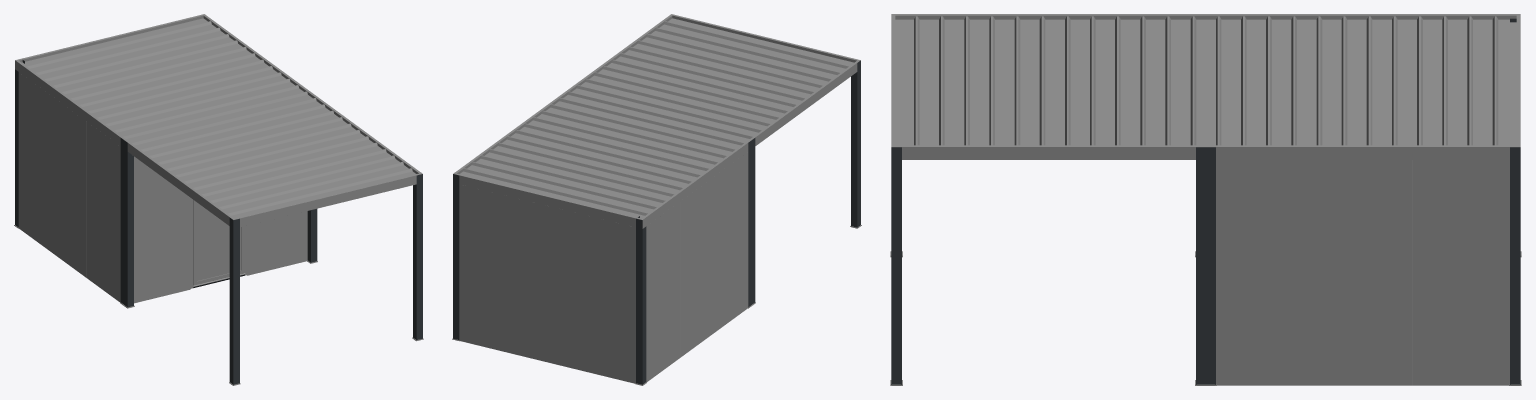
The picture shows the model from 3 angles, left to right: view 1: azimuth 30°, elevation 25°; view 2: azimuth 150°, elevation 25°; view 3: azimuth 270°, elevation 25°; orthographic projection. The views are drawn at different scales.
Parts seen in each view (by area): view 1: Line002, Rectangle021, Rectangle033, Rectangle008, Box007, Box008, Box005, Box003, Rectangle007, Box001, Box006, Rectangle006; view 2: Rectangle021, Line002, Rectangle033, Box001, Box007, Box002, Box003, Box005; view 3: Line002, Rectangle021, Rectangle033, Box002, Box008, Box004, Box006.
Part boxes in pixels (<box>): Line002: <box>22,18,415,218</box>; Rectangle021: <box>18,72,307,303</box>; Rectangle033: <box>15,14,422,227</box>; Rectangle008: <box>197,202,241,280</box>; Box007: <box>229,218,239,384</box>; Box008: <box>413,174,422,340</box>; Box005: <box>124,140,133,307</box>; Box003: <box>120,138,124,304</box>; Rectangle007: <box>193,200,244,285</box>; Box001: <box>15,60,24,227</box>; Box006: <box>307,209,317,262</box>; Rectangle006: <box>190,197,248,288</box>; Rectangle021: <box>459,152,748,383</box>; Line002: <box>460,18,853,218</box>; Rectangle033: <box>453,14,860,228</box>; Box001: <box>636,216,646,384</box>; Box007: <box>851,60,860,227</box>; Box002: <box>453,174,459,339</box>; Box003: <box>748,140,751,307</box>; Box005: <box>752,138,755,304</box>; Line002: <box>895,16,1516,145</box>; Rectangle021: <box>1216,160,1509,385</box>; Rectangle033: <box>891,14,1520,159</box>; Box002: <box>1510,147,1520,384</box>; Box008: <box>891,147,901,384</box>; Box004: <box>1205,147,1215,384</box>; Box006: <box>1196,147,1206,384</box>.
Bounding box in the file's own units: 3060 × 2539 × 6091.
8 materials, 2 textured.
